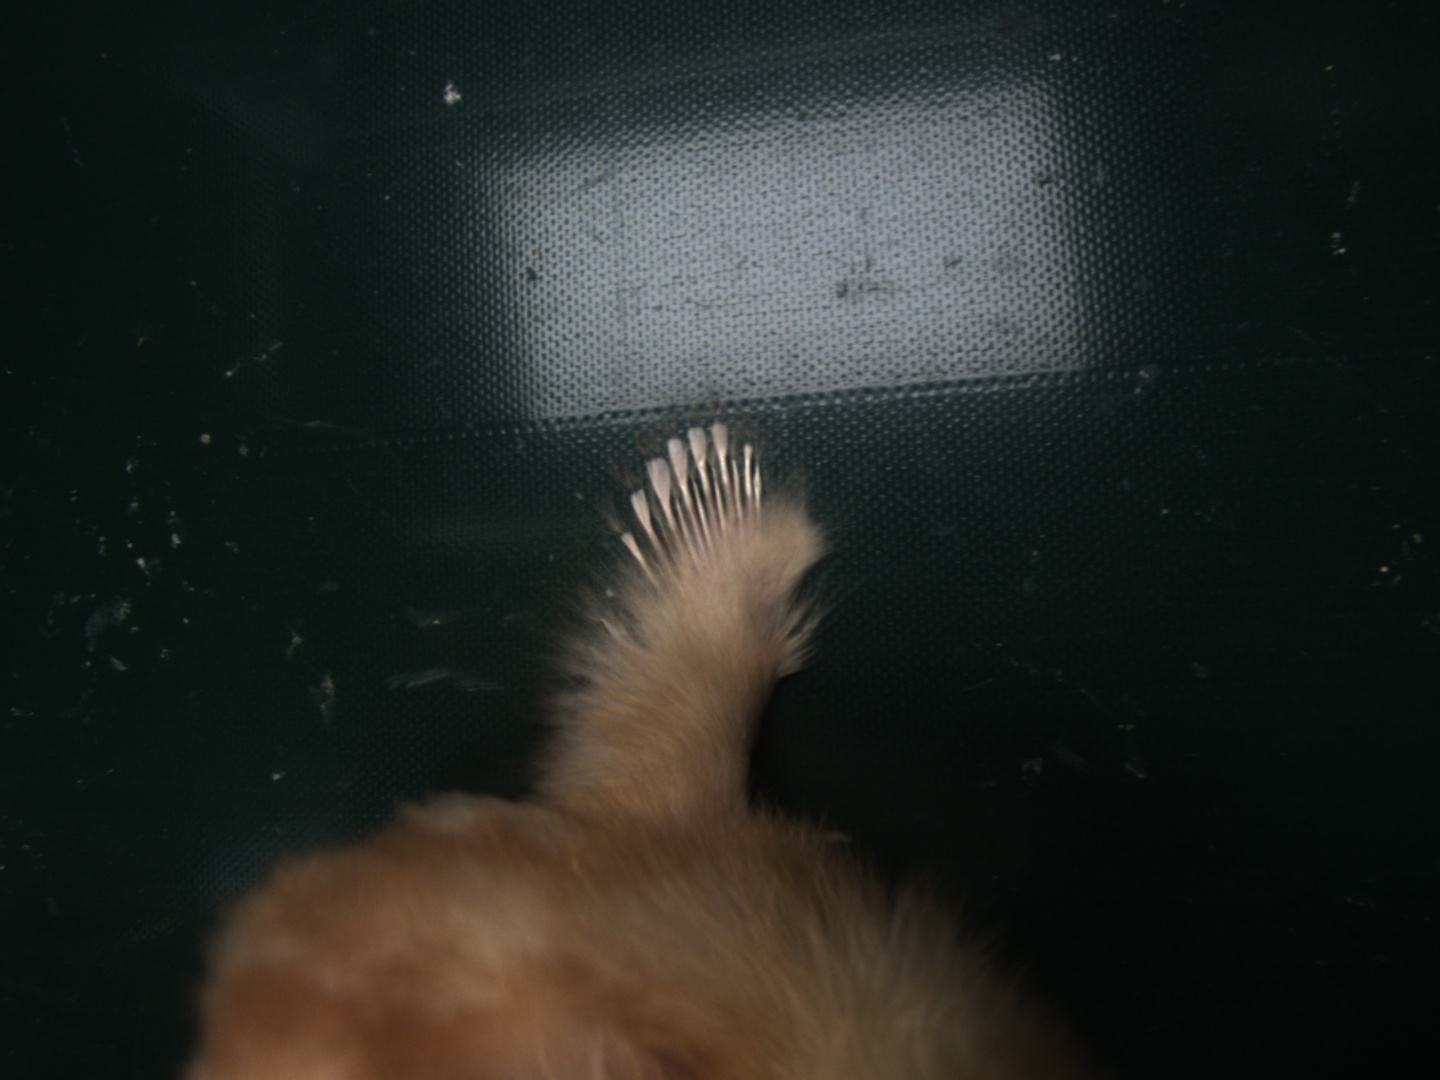female: (621, 425, 764, 585)
